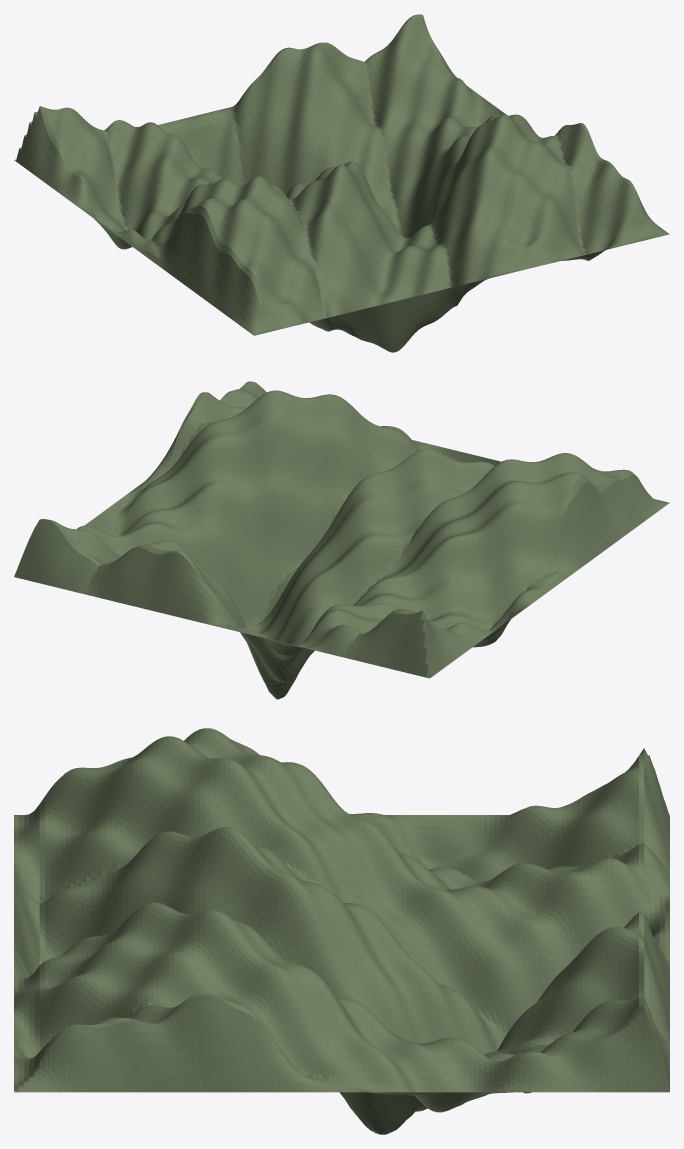
File: harbor_estuary_sandbars.obj
3 views of the same model, one above another, from view 1: azimuth 30°, elevation 25°; view 2: azimuth 150°, elevation 25°; view 3: azimuth 270°, elevation 25° (orthographic). The views are drawn at different scales.
Parts seen in each view (by area): view 1: harbor_estuary_sandbars; view 2: harbor_estuary_sandbars; view 3: harbor_estuary_sandbars.
Part boxes in pixels (<box>): harbor_estuary_sandbars: <box>14,14,669,352</box>; harbor_estuary_sandbars: <box>14,381,669,699</box>; harbor_estuary_sandbars: <box>14,728,669,1134</box>.
Bounding box in the file's own units: 28 × 12.26 × 28.
